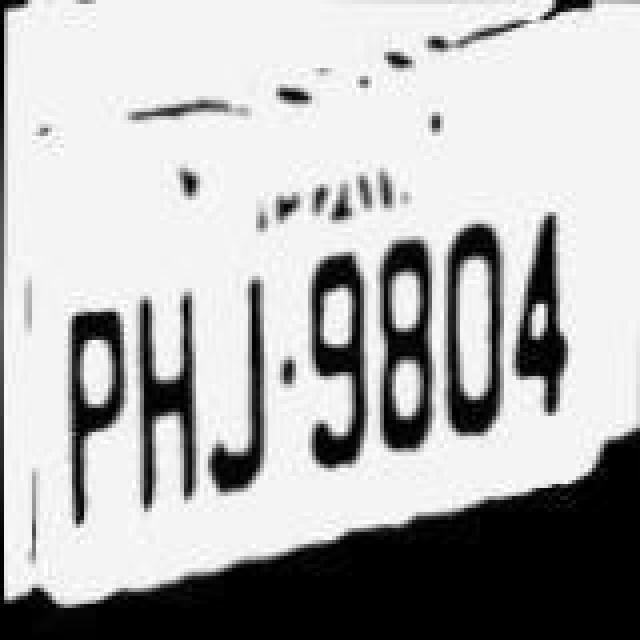4: (506, 188, 586, 452)
8: (368, 224, 444, 496)
9: (292, 242, 372, 522)
H: (128, 262, 208, 534)
J: (202, 256, 278, 520)
O: (436, 204, 512, 476)
P: (46, 274, 130, 542)
